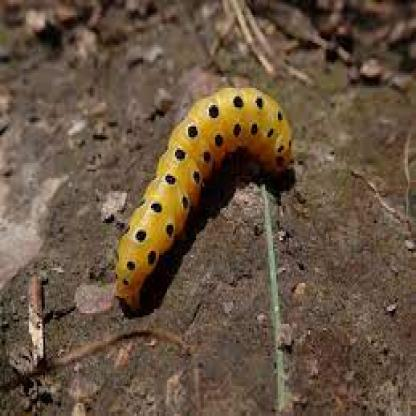sawfly: (110, 86, 298, 317)
